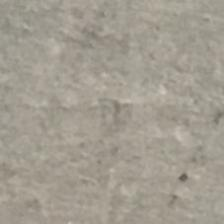Non_Crack: (20, 58, 224, 202)
